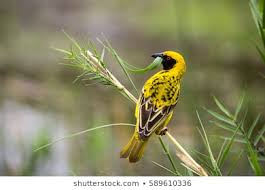target: (119, 49, 191, 167)
